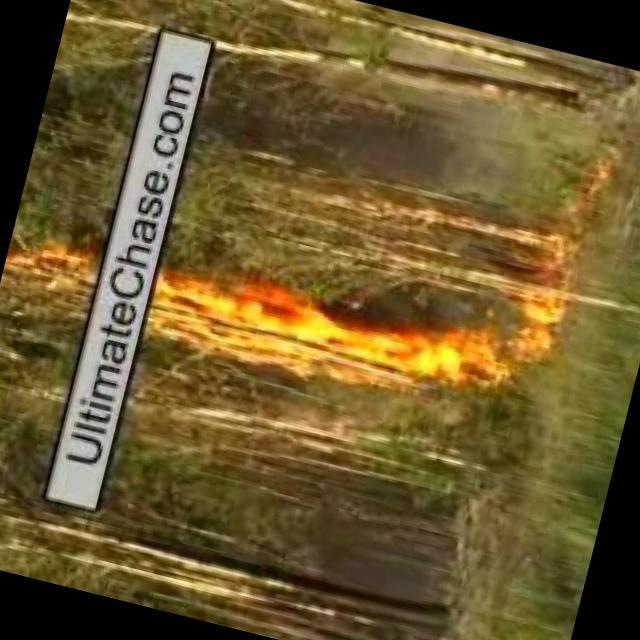Fire: (156, 260, 440, 401), (443, 272, 574, 412), (9, 241, 104, 300)
